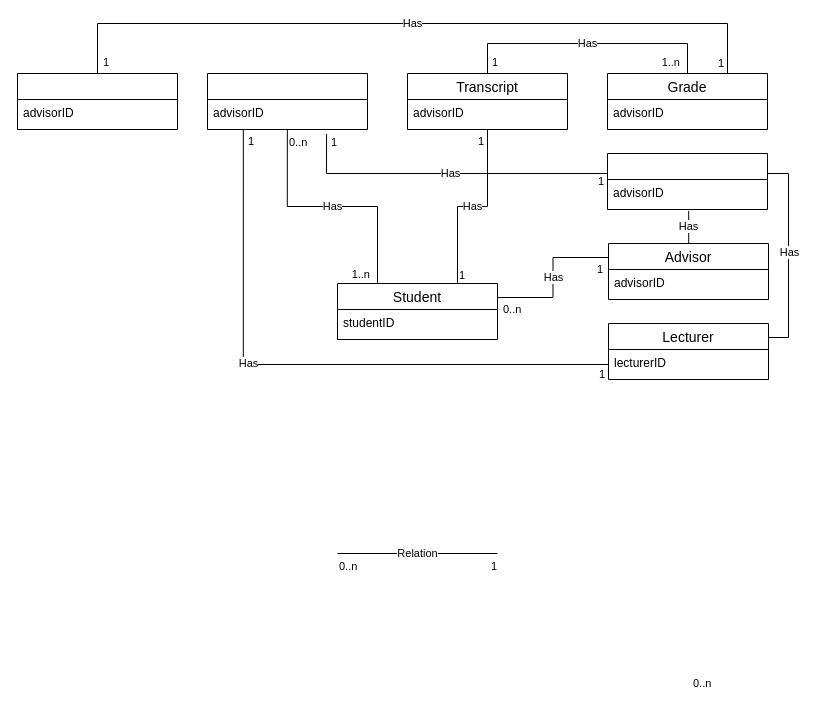
Some shapes in this 816 by 708 pixel diagram are drawn without their labels. The box of each missing label's shape, as (x1, y1, x2, y2) in pixels:
Course: (16, 72, 178, 130)
CourseSection: (206, 72, 368, 130)
TimeInterval: (606, 152, 768, 210)
